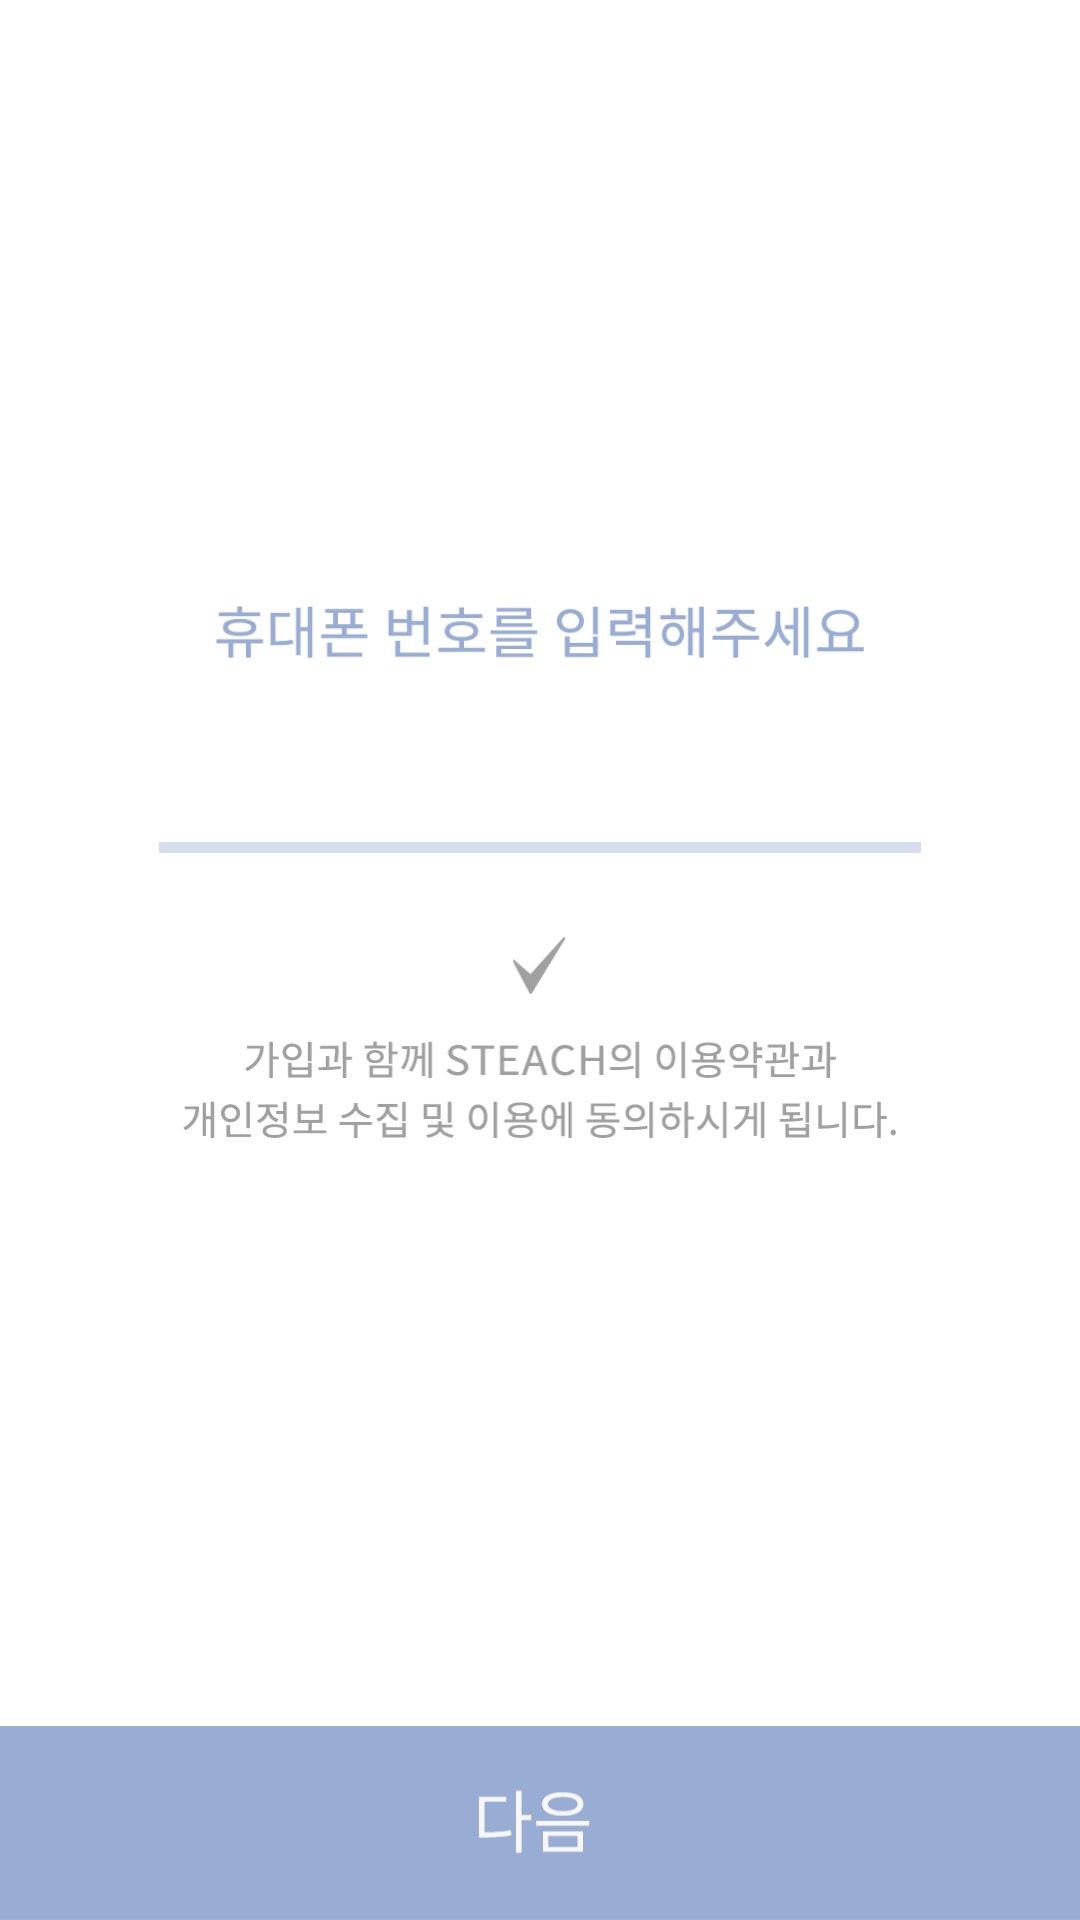

Icons on this 1080px×1920px Android screen, each with its box as (left=x1, top=y1, right=x2, bottom=y2):
check: (left=513, top=937, right=565, bottom=994)
